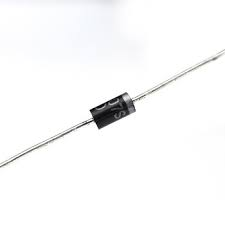diode: (72, 81, 151, 149)
